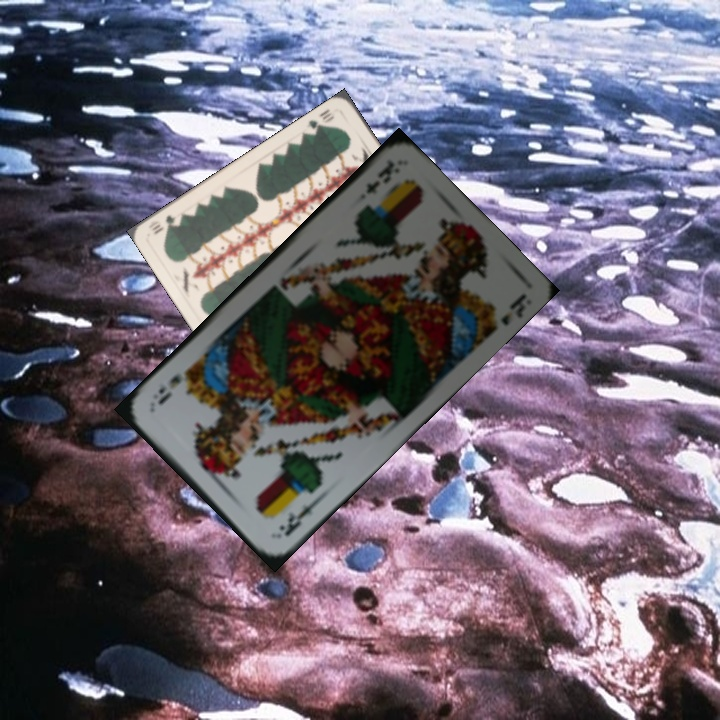EK: (275, 494, 322, 539), (362, 155, 397, 197)
G10: (302, 105, 337, 137)
